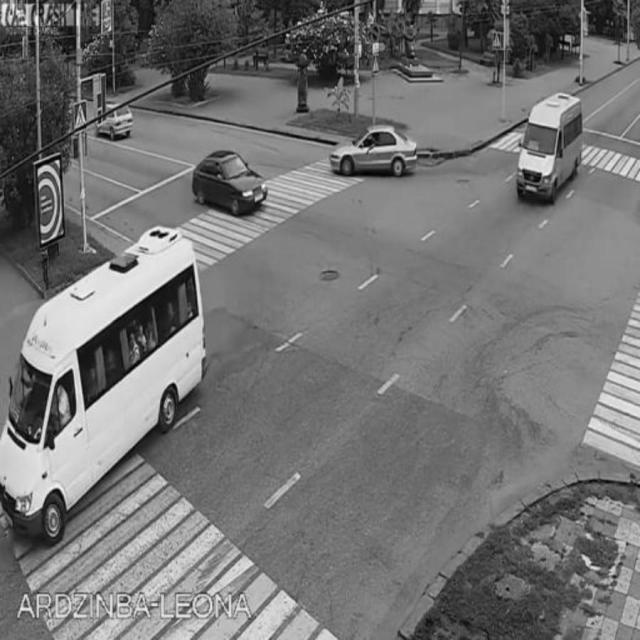vehicle: (2, 228, 210, 539), (514, 90, 585, 203), (193, 141, 271, 217), (330, 127, 418, 175), (96, 102, 134, 138)
